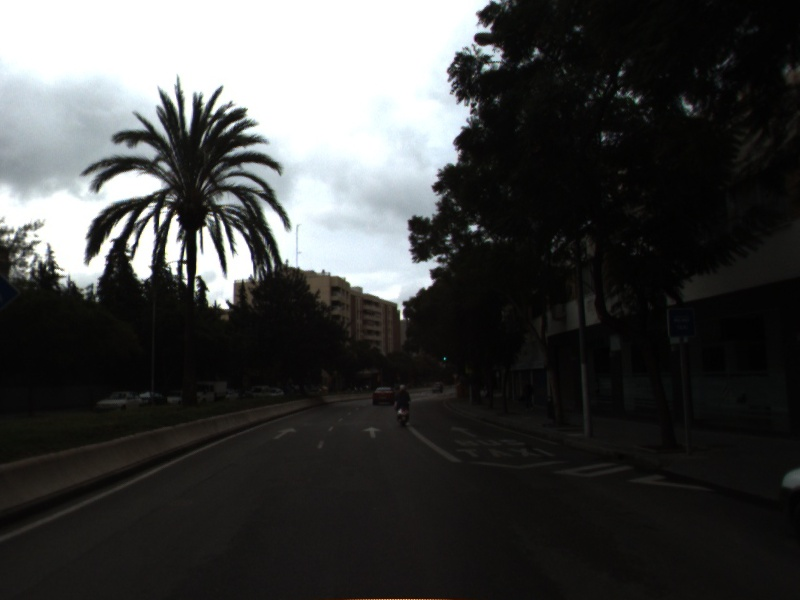STRAIGHT: (449, 424, 479, 439), (271, 426, 299, 441), (360, 425, 384, 440)
